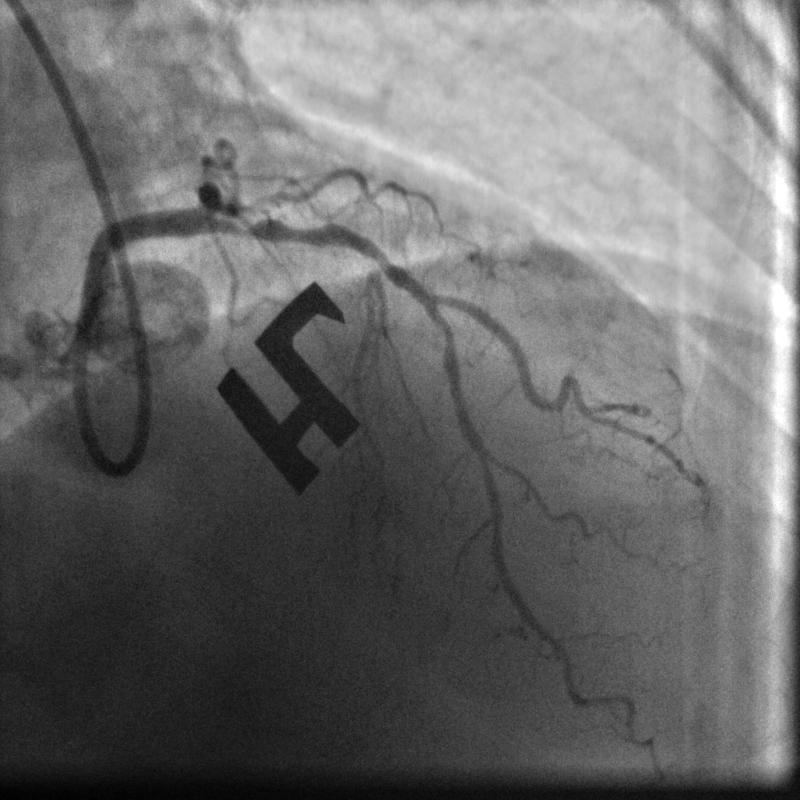Stenosis: (235, 209, 339, 242)
